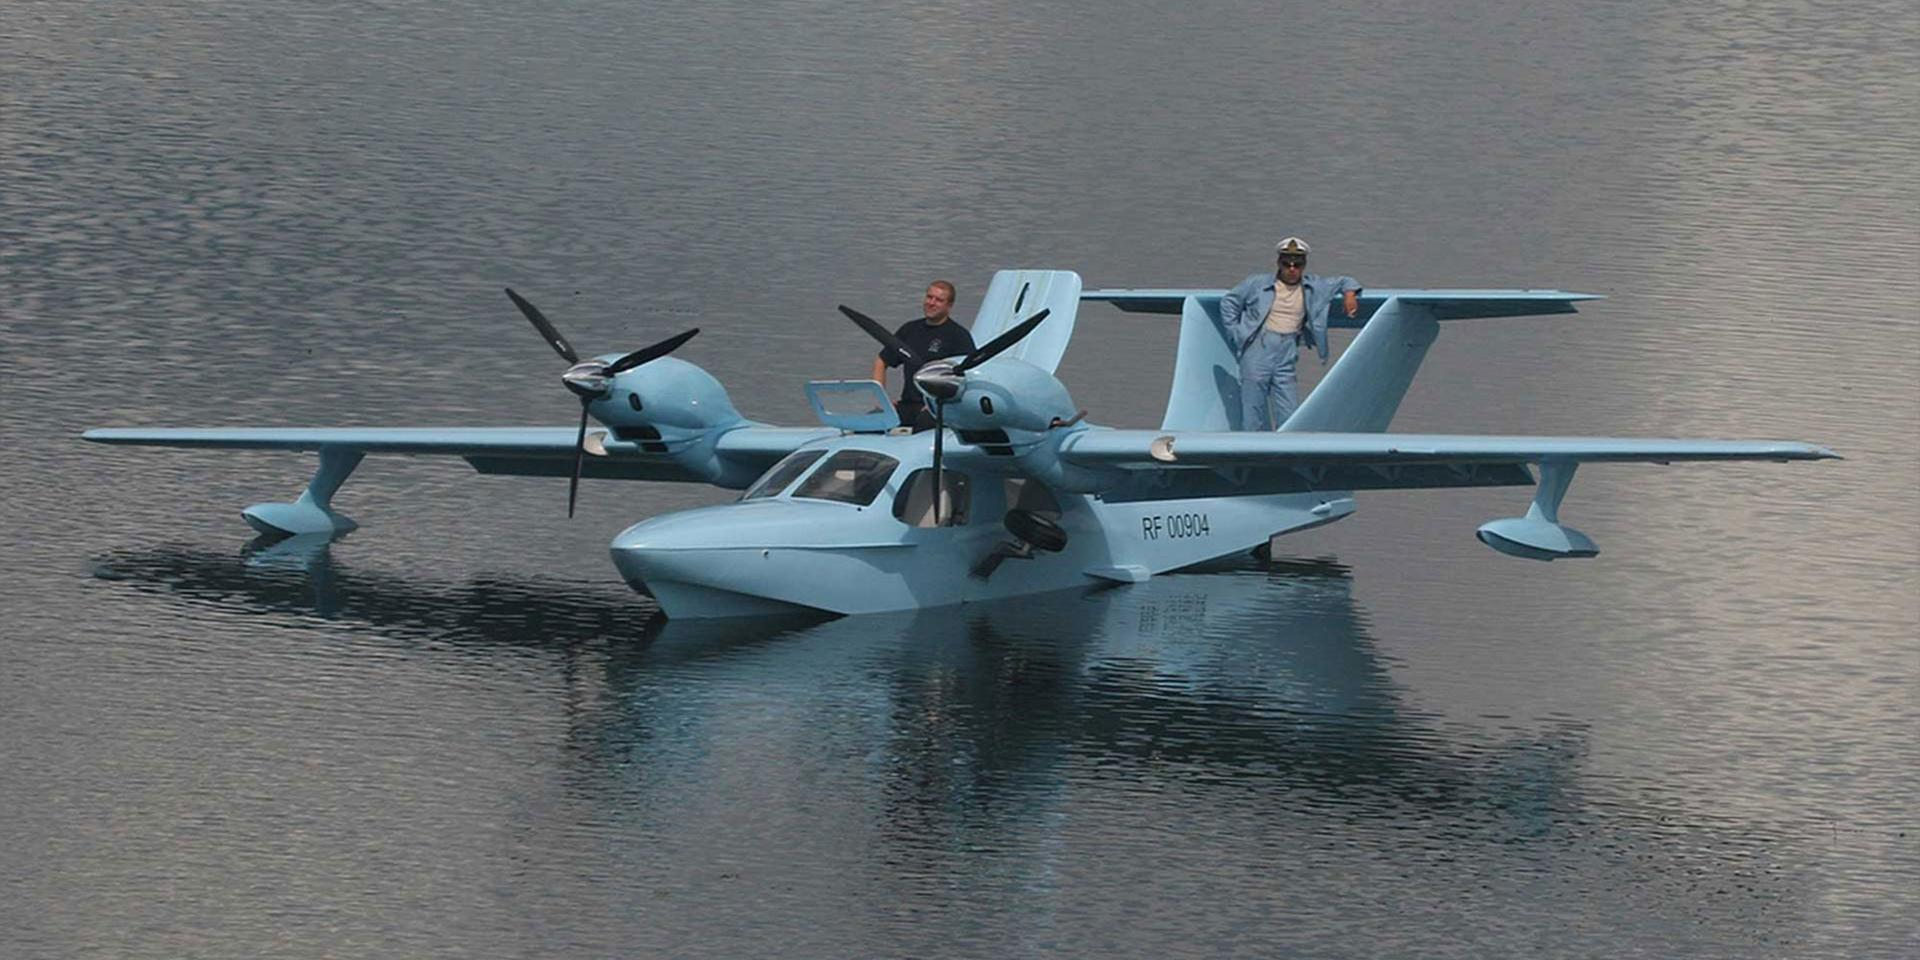Propeller: (514, 280, 703, 504), (846, 291, 1032, 500)
